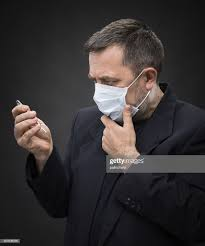masked: (80, 20, 168, 122)
